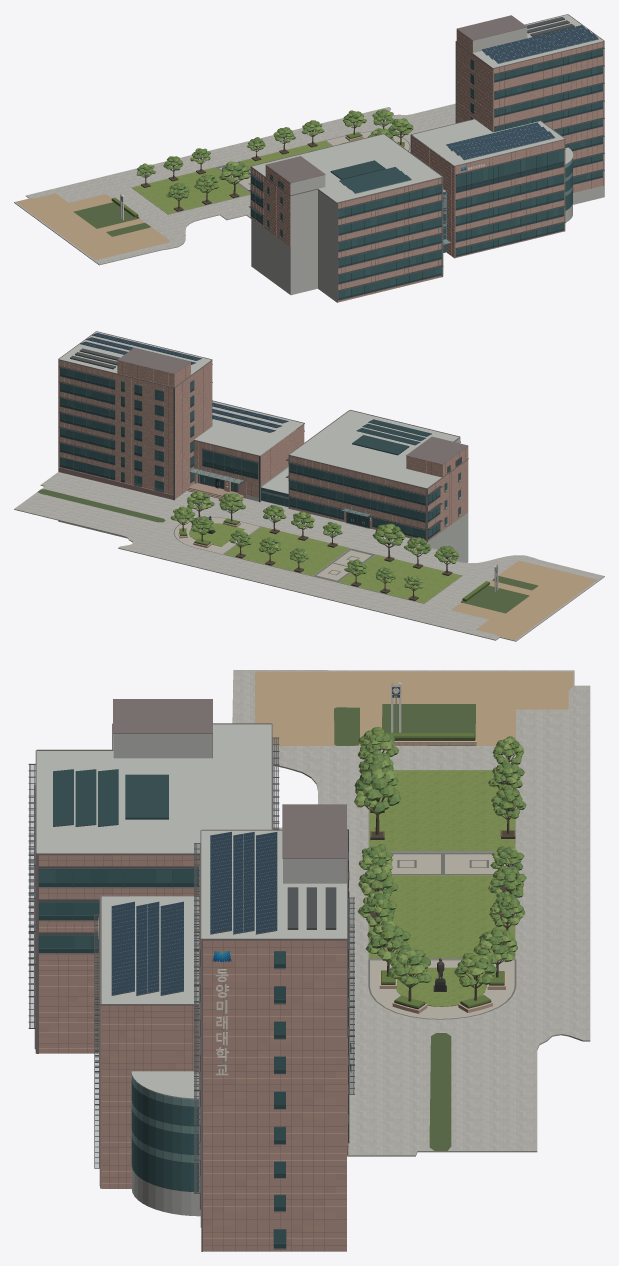
File: 1호관과 도서관.glb
3 views of the same model, one above another, from view 1: azimuth 30°, elevation 25°; view 2: azimuth 150°, elevation 25°; view 3: azimuth 270°, elevation 25° (orthographic). The views are drawn at different scales.
Visible parts, largest first — view 1: 광장 둘레와 잔디 사이 보행로, 도서관 | 형상만 확인한 바탕, 경인로 창 위 석재 띠, 도서관 | 서쪽 돌출부 바탕, 경인로 창 띠 · 유리, 서쪽 정원의 황갈색 바닥, 경인로 면 | 석재 스팬드럴, 창 사이 분홍빛 판재, 서쪽 직사각 잔디, 고층동 · 경인로 쪽 남색 패널 · 반사면, 정면 창띠 5 · 유리, 전면동 · 경인로 쪽 남색 패널 · 반사면 (+37 smaller); view 2: 광장 둘레와 잔디 사이 보행로, 북측 광장 위 분홍 판재, 도서관 | 형상만 확인한 바탕, 서쪽 정원의 황갈색 바닥, 북측 광장 띠창 · 유리, 가운데 직사각 잔디, 서쪽 직사각 잔디, 서측 광장 위 분홍 판재, 도서관 | 서쪽 돌출부 바탕, 북측 광장 세로 창열 · 유리, 한볕뜰 면 | 분홍빛 석재, 앞동 몸체 (+33 smaller); view 3: 광장 둘레와 잔디 사이 보행로, 동측 끝 석재 패널, 도서관 | 형상만 확인한 바탕, 서쪽 정원의 황갈색 바닥, 곡면 뒤 동측 돌판, 서쪽 직사각 잔디, 가운데 직사각 잔디, 고층동 · 경인로 쪽 남색 패널 · 반사면, 전면동 · 경인로 쪽 남색 패널 · 반사면, 곡면 유리·하부, 연결부 쪽 | 하부 석재, 동측 끝 석재 패널 · 줄눈 바탕 (+39 smaller).
Boxes of the visible parts, x1,y1,x2,y2 form: 광장 둘레와 잔디 사이 보행로: (14, 103, 455, 264); 도서관 | 형상만 확인한 바탕: (279, 134, 441, 302); 경인로 창 위 석재 띠: (494, 42, 602, 176); 도서관 | 서쪽 돌출부 바탕: (251, 160, 317, 295); 경인로 창 띠 · 유리: (494, 49, 603, 184); 서쪽 정원의 황갈색 바닥: (16, 193, 169, 260); 경인로 면 | 석재 스팬드럴: (338, 194, 441, 302); 창 사이 분홍빛 판재: (455, 167, 563, 257); 서쪽 직사각 잔디: (132, 167, 250, 214); 고층동 · 경인로 쪽 남색 패널 · 반사면: (482, 25, 598, 63); 정면 창띠 5 · 유리: (456, 149, 563, 192); 전면동 · 경인로 쪽 남색 패널 · 반사면: (446, 122, 554, 159); 광장 둘레와 잔디 사이 보행로: (14, 472, 604, 640); 북측 광장 위 분홍 판재: (58, 360, 173, 494); 도서관 | 형상만 확인한 바탕: (289, 410, 459, 481); 서쪽 정원의 황갈색 바닥: (451, 561, 596, 640); 북측 광장 띠창 · 유리: (60, 368, 114, 479); 가운데 직사각 잔디: (224, 526, 349, 575); 서쪽 직사각 잔디: (338, 554, 461, 603); 서측 광장 위 분홍 판재: (175, 374, 193, 499); 도서관 | 서쪽 돌출부 바탕: (399, 470, 468, 562); 북측 광장 세로 창열 · 유리: (121, 381, 163, 491); 한볕뜰 면 | 분홍빛 석재: (440, 460, 468, 532); 앞동 몸체: (212, 401, 303, 474); 광장 둘레와 잔디 사이 보행로: (232, 670, 590, 1155); 동측 끝 석재 패널: (203, 940, 346, 1251); 도서관 | 형상만 확인한 바탕: (36, 751, 271, 1053); 서쪽 정원의 황갈색 바닥: (255, 671, 573, 745); 곡면 뒤 동측 돌판: (101, 1005, 198, 1188); 서쪽 직사각 잔디: (369, 770, 515, 850); 가운데 직사각 잔디: (369, 875, 514, 958); 고층동 · 경인로 쪽 남색 패널 · 반사면: (210, 832, 277, 933); 전면동 · 경인로 쪽 남색 패널 · 반사면: (111, 901, 183, 994); 곡면 유리·하부: (131, 1080, 200, 1216); 연결부 쪽 | 하부 석재: (39, 955, 98, 1053); 동측 끝 석재 패널 · 줄눈 바탕: (203, 941, 346, 1251).
Bounding box in the file's own units: 140 × 45.44 × 68.31.
Materials: 89 (2 with a texture image).
